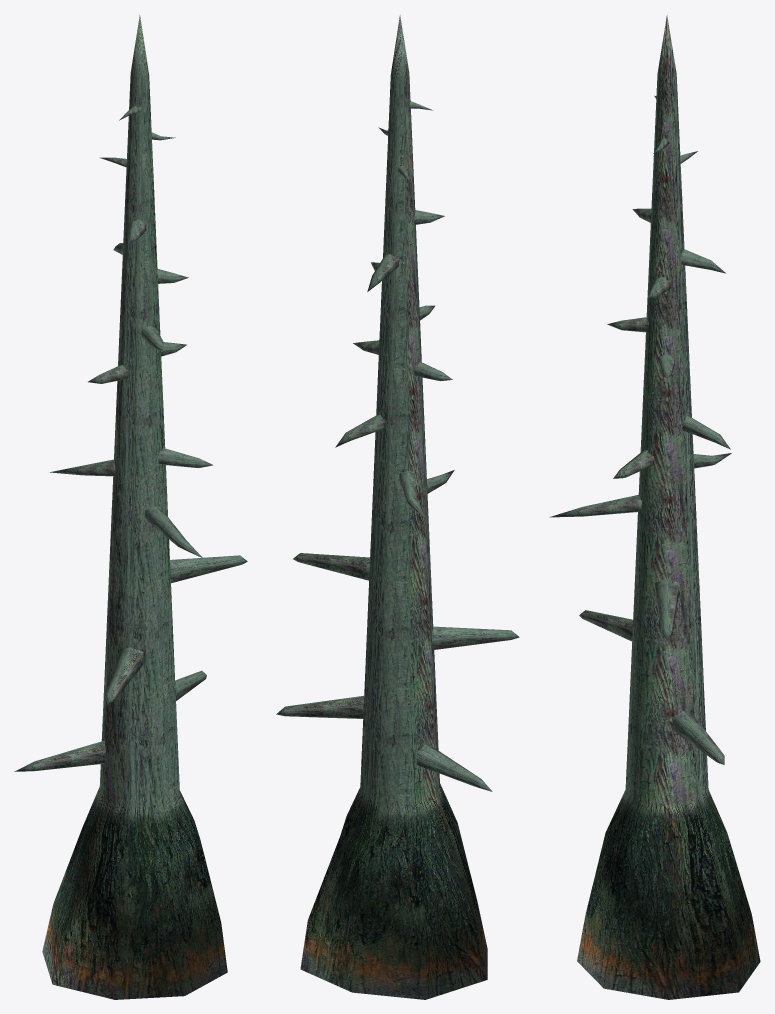
The model's file is conf_spiky_l0.fbx.
The picture shows the model from 3 angles, left to right: view 1: azimuth 30°, elevation 25°; view 2: azimuth 150°, elevation 25°; view 3: azimuth 270°, elevation 25°; orthographic projection.
Visible parts, largest first — view 1: mesh_node; view 2: mesh_node; view 3: mesh_node.
Boxes of the visible parts, x1,y1,x2,y2 form: mesh_node: [14, 15, 247, 999]; mesh_node: [276, 15, 519, 999]; mesh_node: [549, 15, 760, 999].
Bounding box in the file's own units: 5.61 × 23.4 × 4.75.
